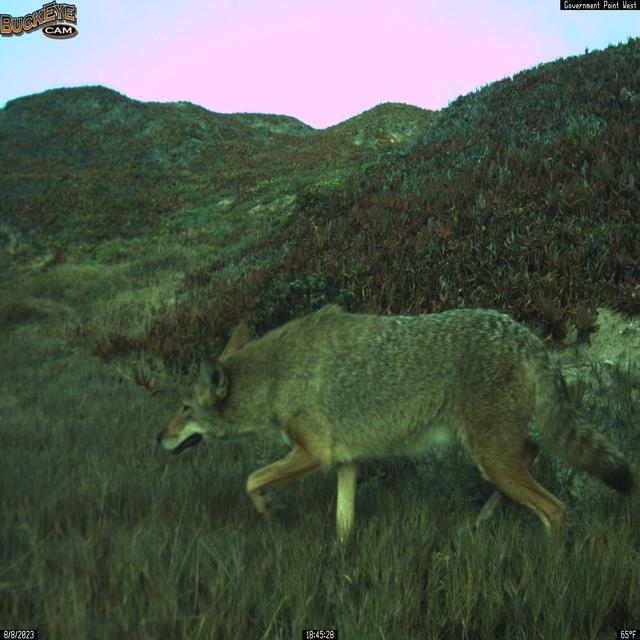coyote: (156, 302, 637, 562)
